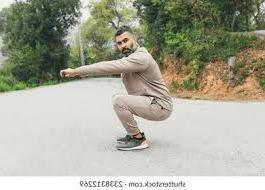Human: (65, 22, 173, 153)
